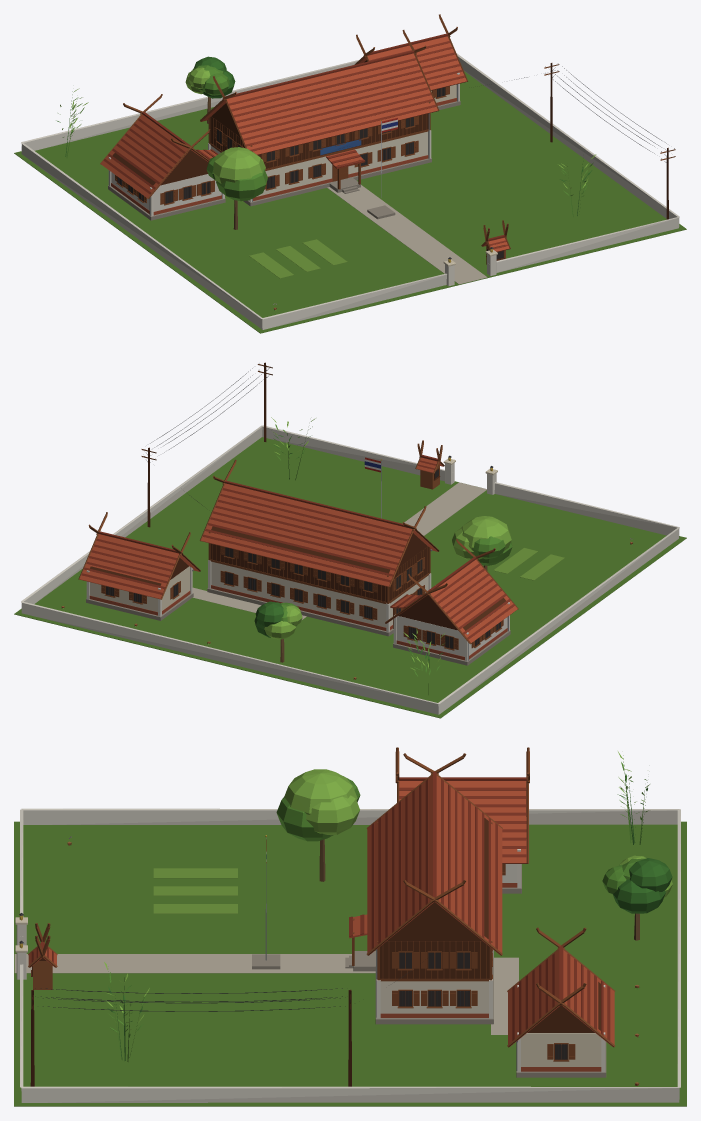
The model's file is police.glb.
The picture shows the model from 3 angles, top to bottom: view 1: azimuth 30°, elevation 25°; view 2: azimuth 150°, elevation 25°; view 3: azimuth 270°, elevation 25°; orthographic projection. The views are drawn at different scales.
Parts seen in each view (by area): view 1: body, windows; view 2: body, windows; view 3: body, windows.
Part boxes in pixels (x1=…): body: x1=14, y1=14, x2=686, y2=333; windows: x1=117, y1=87, x2=503, y2=262; body: x1=14, y1=362, x2=686, y2=718; windows: x1=106, y1=457, x2=500, y2=648; body: x1=14, y1=747, x2=686, y2=1106; windows: x1=19, y1=915, x2=567, y2=1059.
Size of the model in its own units: 47.9 by 11.81 by 47.9.
